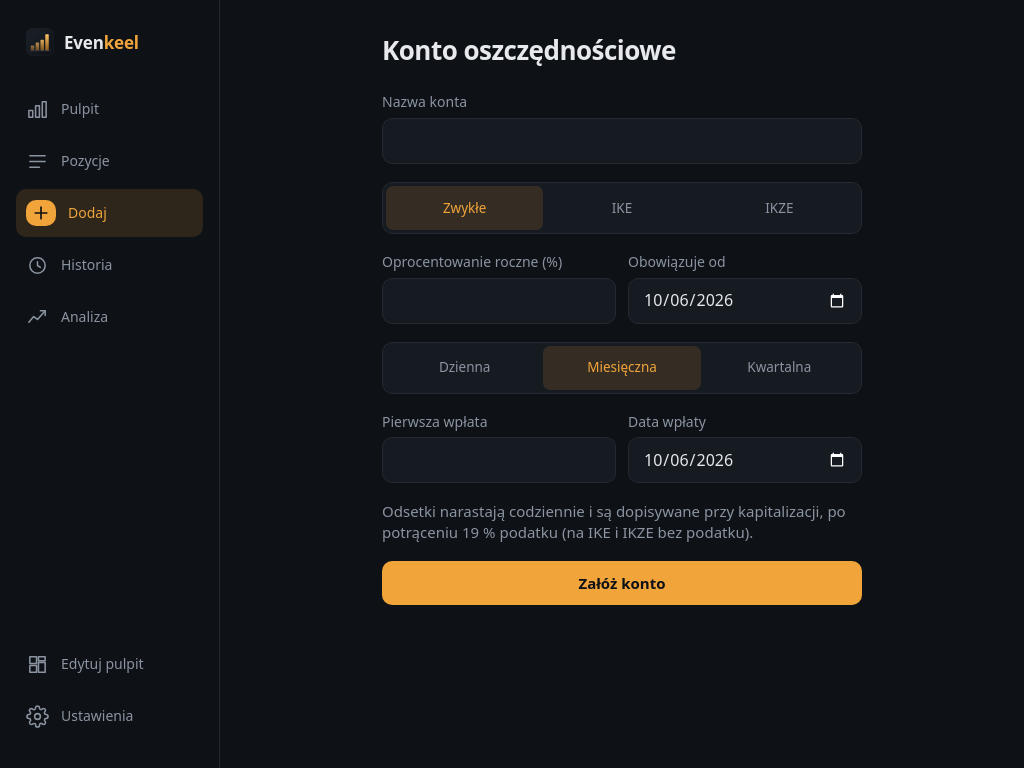
new savings account form › points at every missing field before sending
The image size is (1024, 768).
Click the button "Załóż konto" at coordinates (622, 583), box [382,561,862,605]
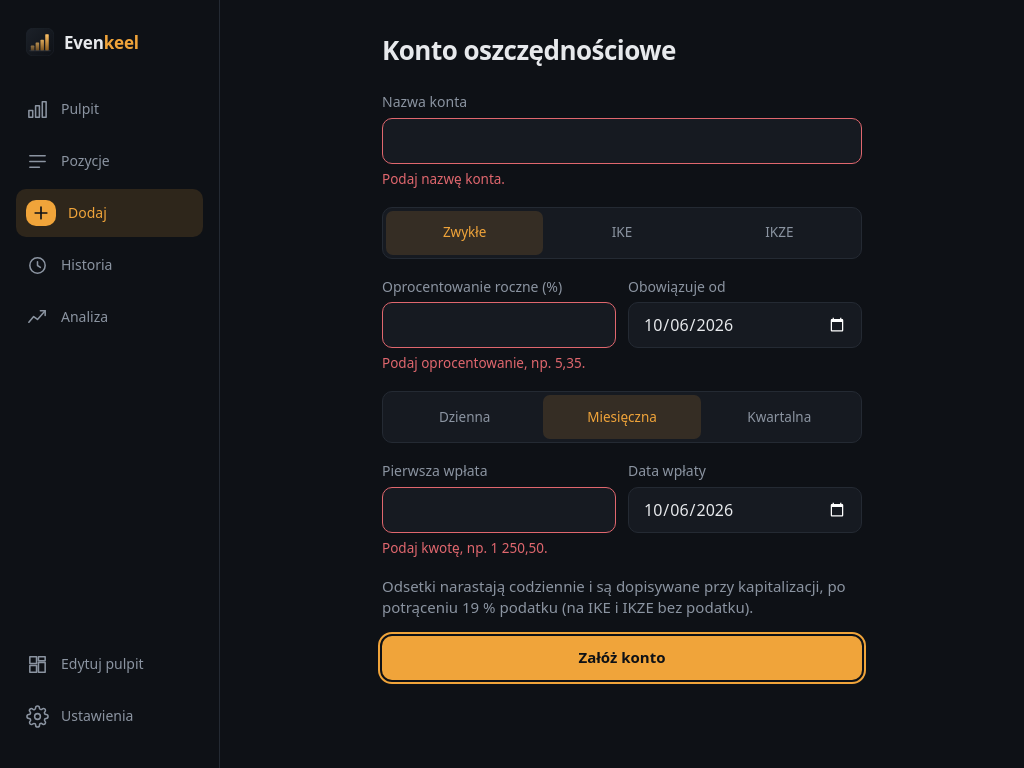
Result: the text "Podaj nazwę konta." is shown at [382,170,505,188]
Result: the text "Podaj oprocentowanie, np. 5,35." is shown at [382,354,616,373]
Result: the text "Podaj kwotę, np. 1 250,50." is shown at [382,539,548,557]
